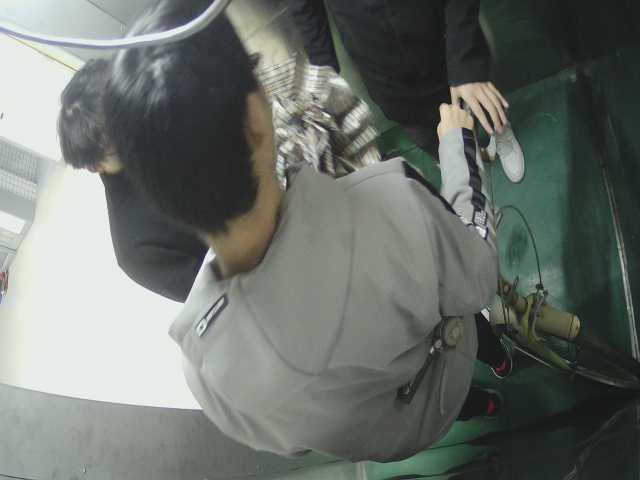bicycle: (459, 220, 637, 399)
person: (117, 29, 511, 459), (324, 1, 535, 195)
